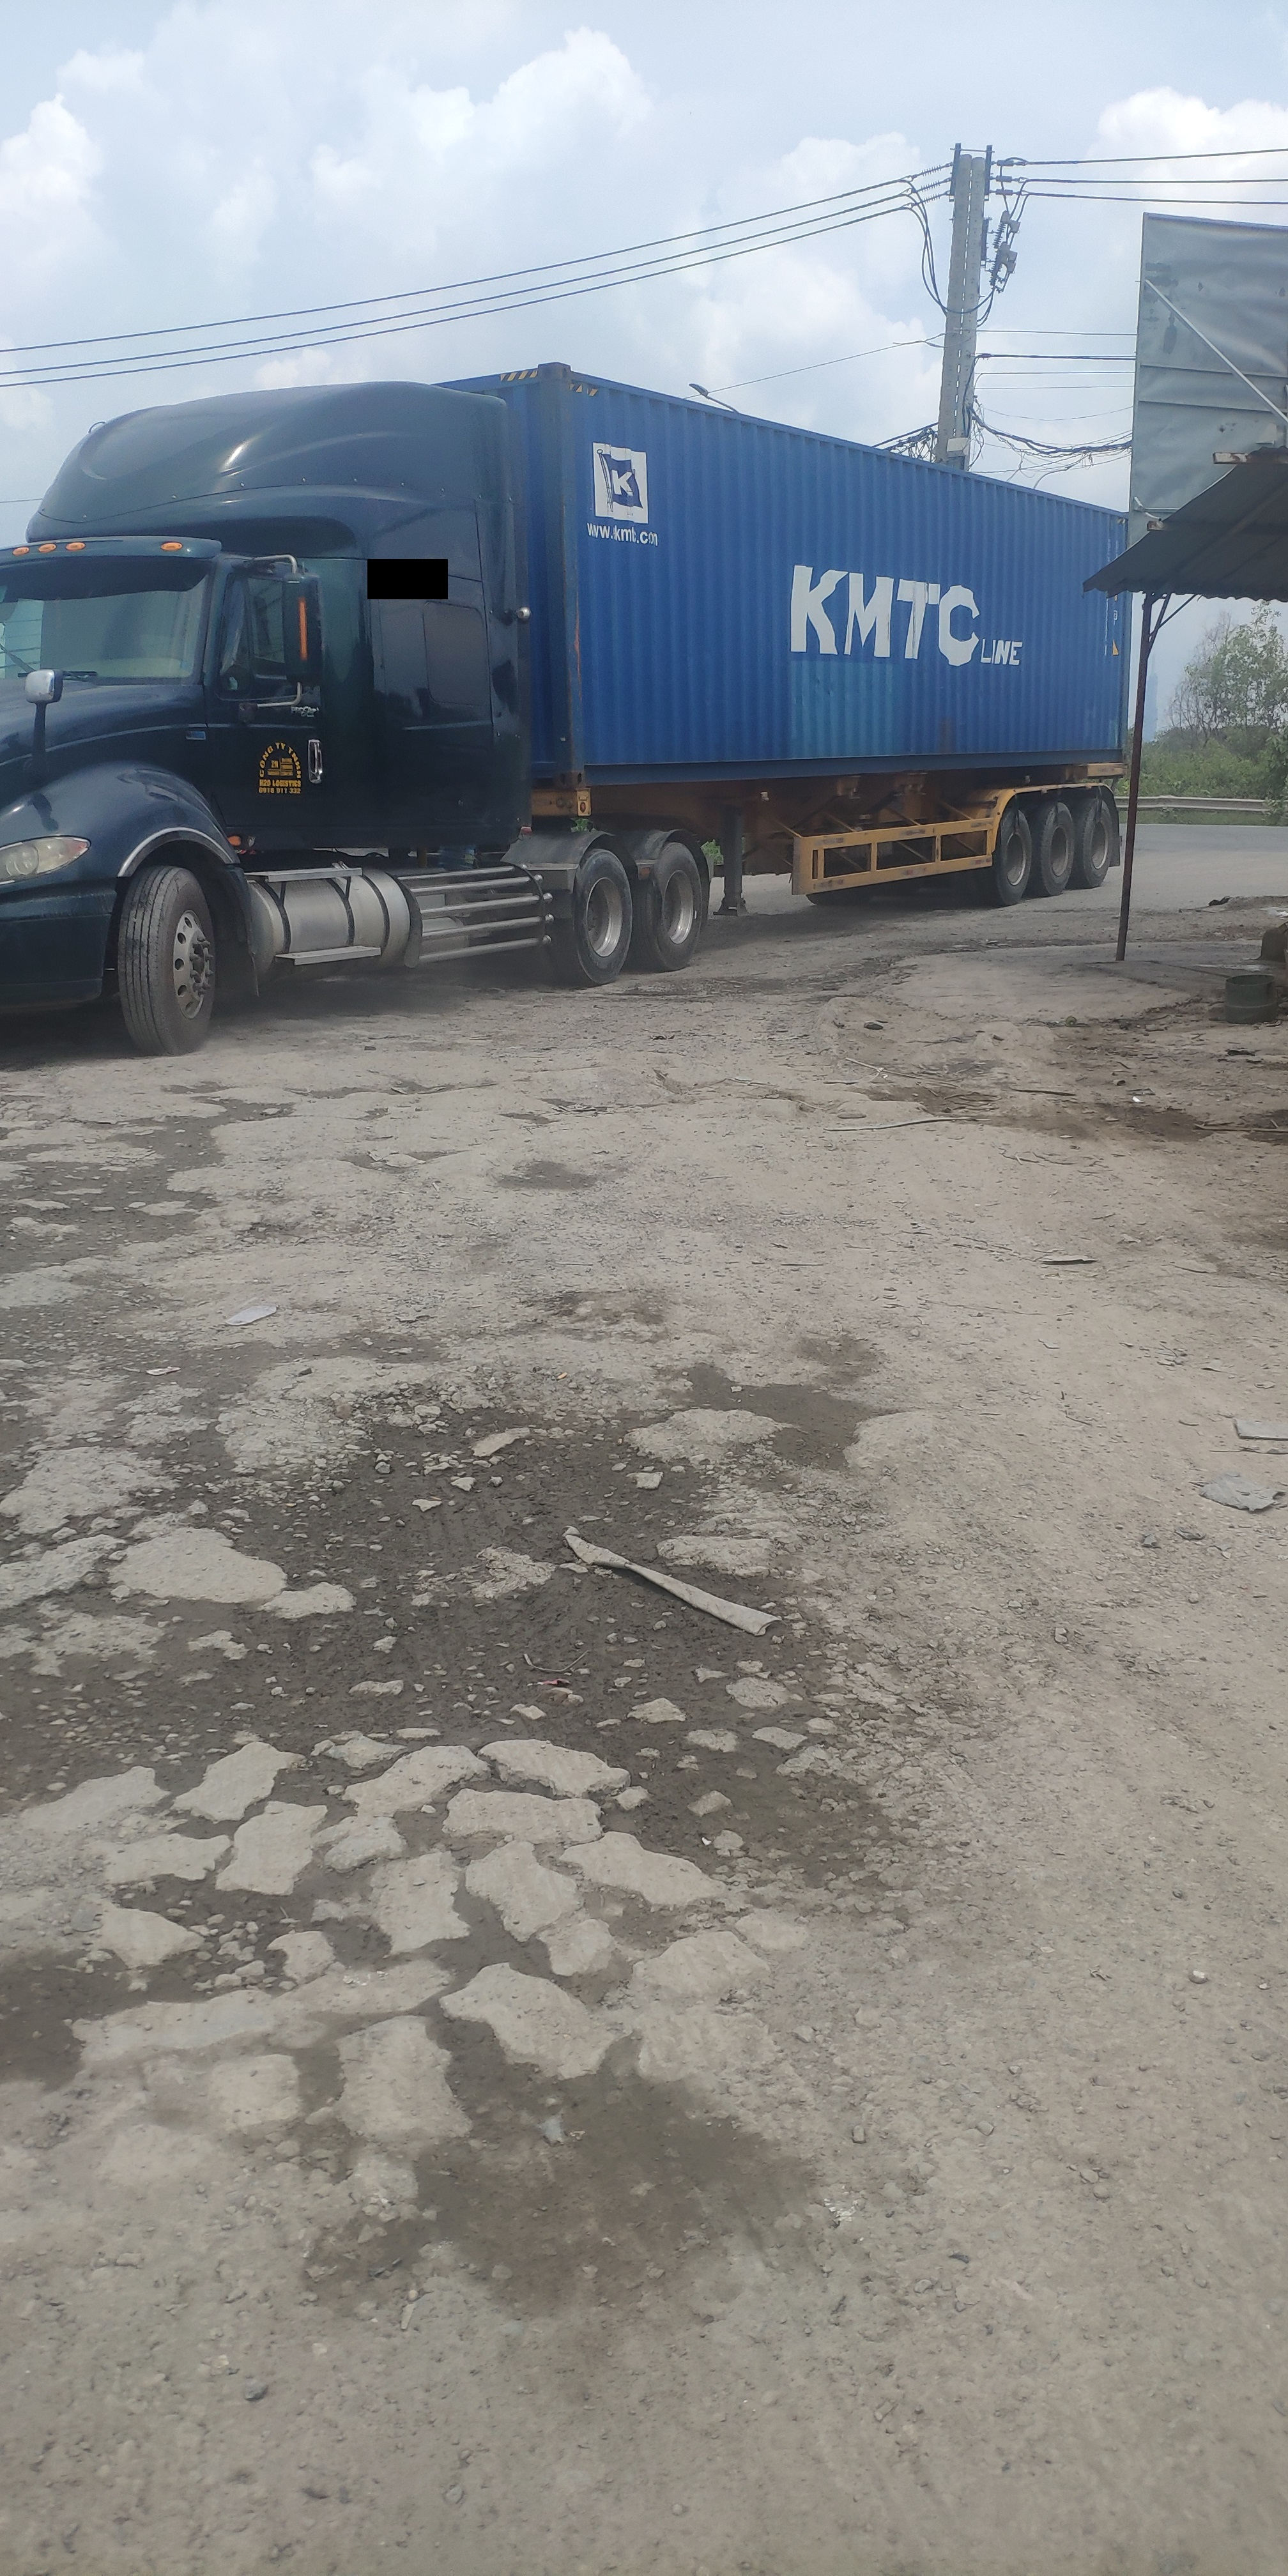hole: (251, 1380, 756, 1773), (5, 1161, 186, 1265), (516, 1276, 675, 1350), (292, 1065, 499, 1111), (636, 1060, 797, 1114), (218, 1201, 361, 1262), (324, 1130, 468, 1178), (491, 1148, 601, 1203)
